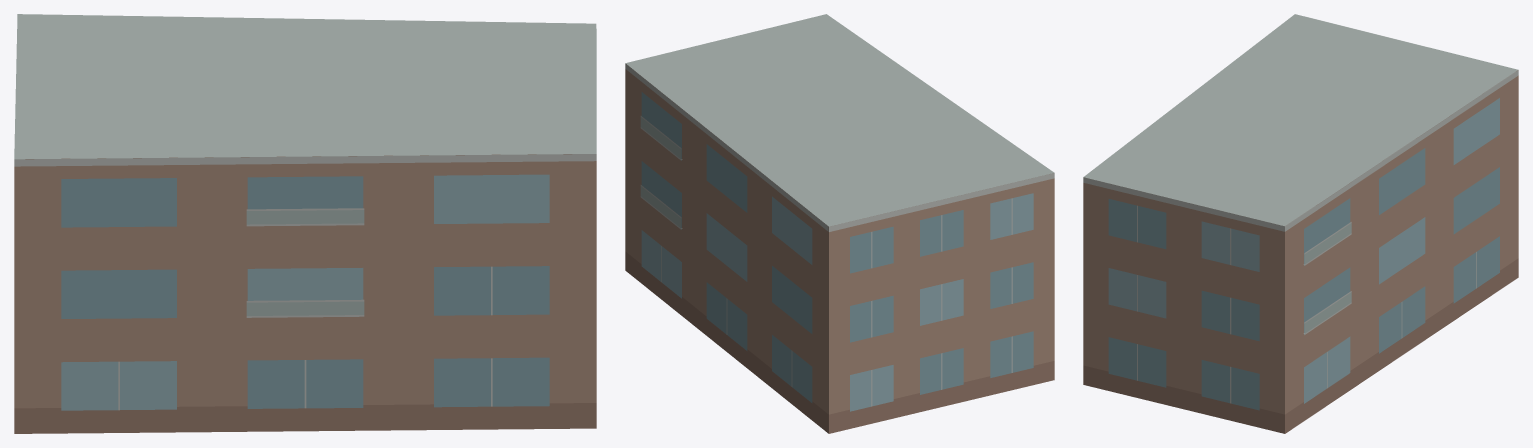
The model's file is survey-upis-32473510.glb.
The picture shows the model from 3 angles, left to right: view 1: azimuth 30°, elevation 25°; view 2: azimuth 150°, elevation 25°; view 3: azimuth 270°, elevation 25°; orthographic projection. The views are drawn at different scales.
Visible parts, largest first — view 1: survey-upis-32473510.tmp; view 2: survey-upis-32473510.tmp; view 3: survey-upis-32473510.tmp.
Part boxes in pixels (<box>): survey-upis-32473510.tmp: <box>14,14,596,433</box>; survey-upis-32473510.tmp: <box>625,14,1054,433</box>; survey-upis-32473510.tmp: <box>1083,14,1518,433</box>.
Bounding box in the file's own units: 20.08 × 9.15 × 17.4.
